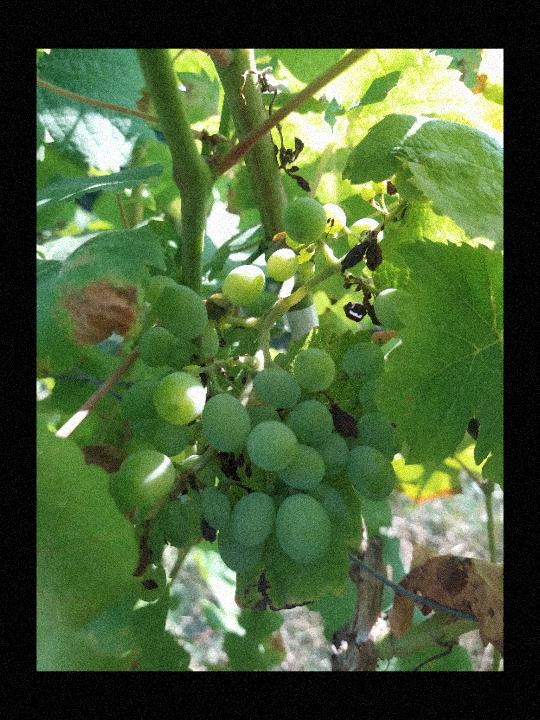grape: (112, 197, 408, 574)
